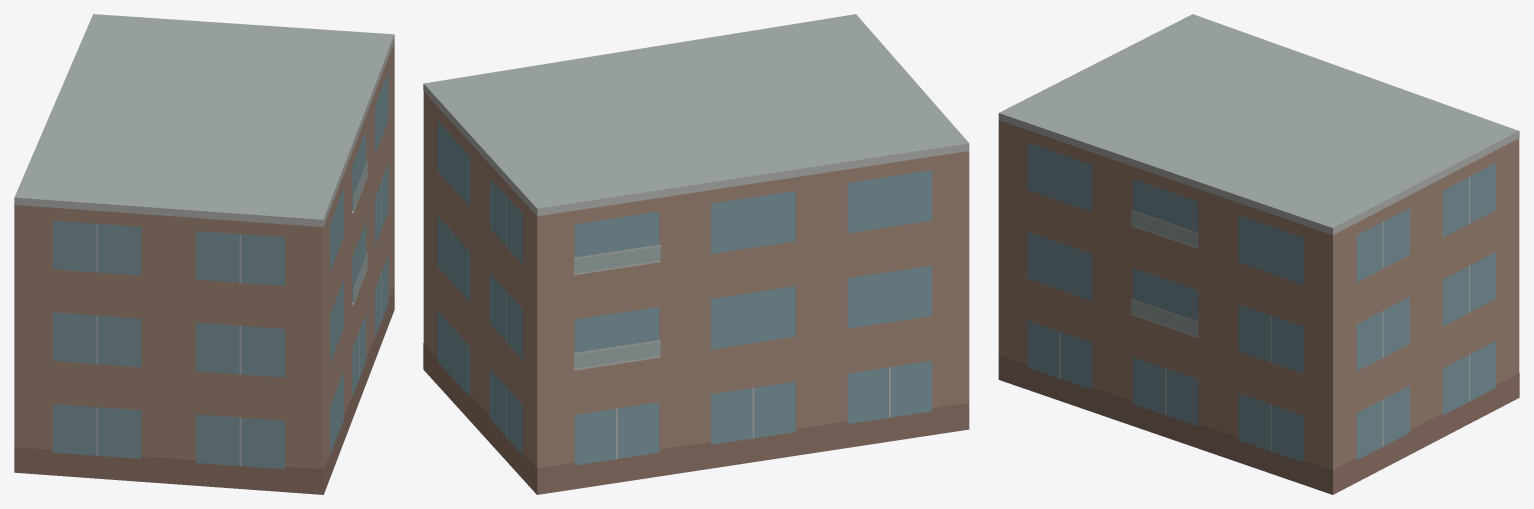
Rendered from survey-upis-32698667.glb.
The picture shows the model from 3 angles, left to right: view 1: azimuth 30°, elevation 25°; view 2: azimuth 150°, elevation 25°; view 3: azimuth 270°, elevation 25°; orthographic projection. The views are drawn at different scales.
Visible parts, largest first — view 1: survey-upis-32698667.tmp; view 2: survey-upis-32698667.tmp; view 3: survey-upis-32698667.tmp.
Part boxes in pixels (x1,y1,x2,y2): survey-upis-32698667.tmp: (14, 14, 394, 494); survey-upis-32698667.tmp: (423, 14, 969, 494); survey-upis-32698667.tmp: (998, 14, 1519, 494).
Size of the model in its own units: 15.76 by 9.15 by 16.2.
